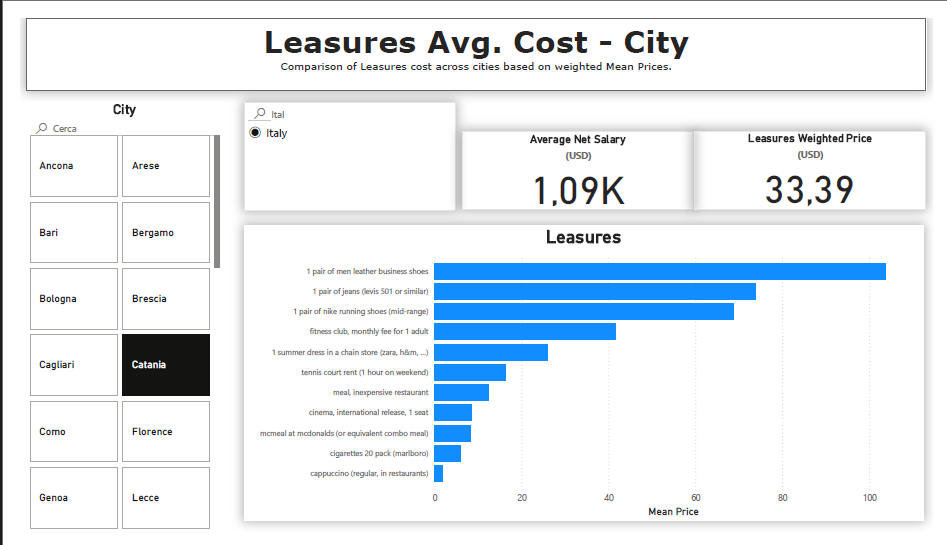

This screenshot's page, from the dashboard's own definition file:
{"tool":"powerbi","page":{"name":"Leasures","canvas":[1280,720],"ordinal":5},"visuals":[{"type":"textbox","box":[9,0,1260.9,101.6],"z":0},{"type":"barChart","title":"Leasures","fields":{"Category":["livingcost vw_valcar_transformed.Paramethers"],"Y":["livingcost vw_valcar_transformed.Avg_Leasures_City"]},"box":[314.3,291.4,951.4,412.9],"z":1000},{"type":"advancedSlicerVisual","title":"City","fields":{"Values":["livingcost vw_valcar_transformed.CityName"]},"box":[8.7,117.3,276.6,602.5],"z":2000},{"type":"listSlicer","fields":{"Values":["livingcost vw_valcar_transformed.Country"]},"box":[314,118,296,152],"z":3000},{"type":"card","title":"Average Net Salary","fields":{"Values":["livingcost vw_valcar_transformed.Avg_Salary_City"]},"box":[618.8,158.8,325,110],"z":4000},{"type":"card","title":"Leasures Weighted Price","fields":{"Values":["livingcost vw_valcar_transformed.Avg_Leasures_City"]},"box":[943.8,157.5,325,111.2],"z":5000}]}

Visuals, with their boxes in screenshot pixels (x1, y1, x2, y2), scaled from the page's 1280x720 canvas onto the 947x545 screenshot:
textbox: 7/0/940/77
"Leasures" barChart: 233/221/936/533
"City" advancedSlicerVisual: 6/89/211/544
listSlicer - livingcost vw_valcar_transformed.Country: 232/89/451/204
"Average Net Salary" card: 458/120/698/203
"Leasures Weighted Price" card: 698/119/939/203
